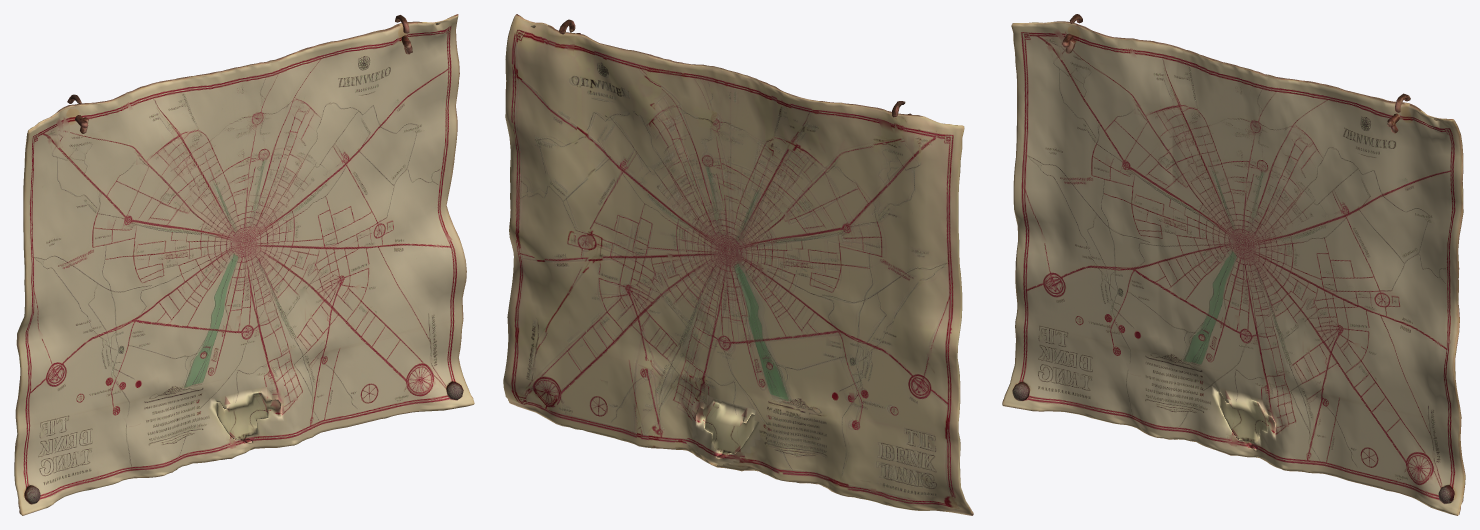
Rendered from Meshy_AI_Large_town_map_pinned_0306044537_texture.fbx.
3 renders of one model, left to right at view 1: azimuth 30°, elevation 25°; view 2: azimuth 150°, elevation 25°; view 3: azimuth 330°, elevation 25°, orthographic.
Visible parts, largest first — view 1: Mesh_0; view 2: Mesh_0; view 3: Mesh_0.
Part boxes in pixels (x1=…): Mesh_0: x1=14, y1=14, x2=474, y2=515; Mesh_0: x1=503, y1=14, x2=973, y2=515; Mesh_0: x1=1002, y1=14, x2=1465, y2=515.
Size of the model in its own units: 191 by 161 by 13.31.
Materials: 1 (1 with a texture image).
